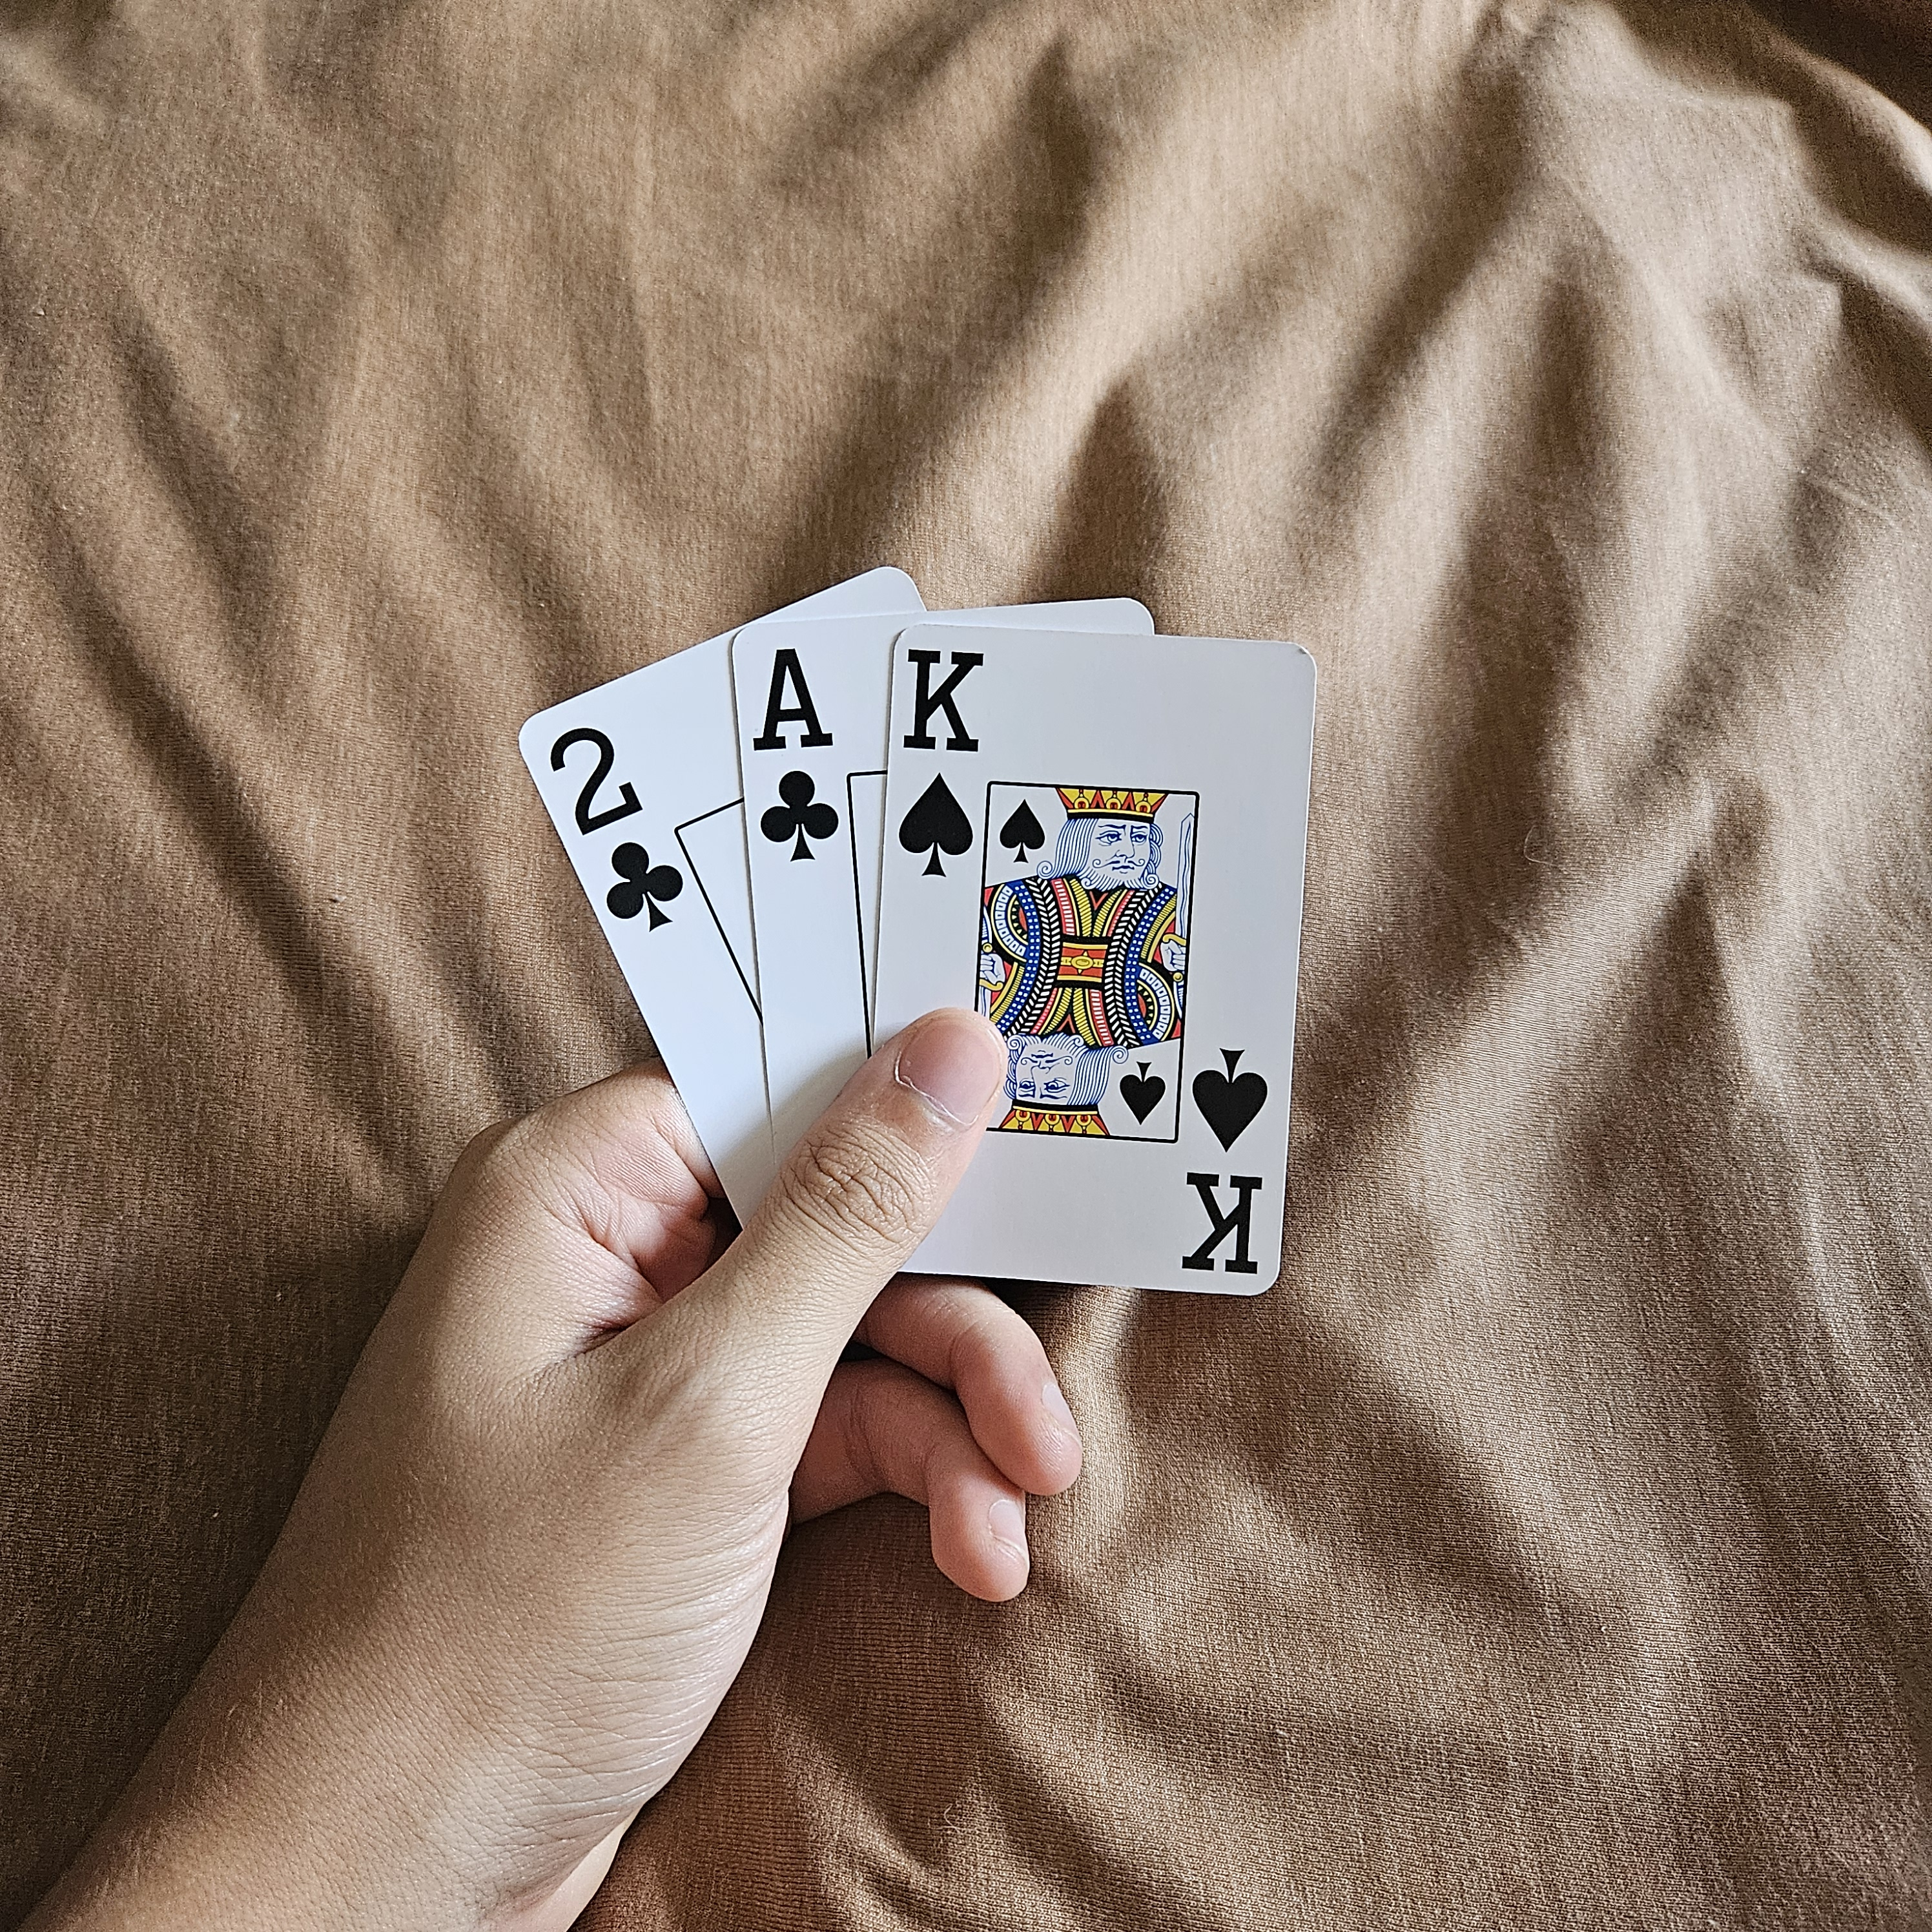2P: (525, 704, 699, 947)
AP: (736, 632, 855, 879)
KE: (879, 625, 993, 886), (1168, 1031, 1277, 1292)
